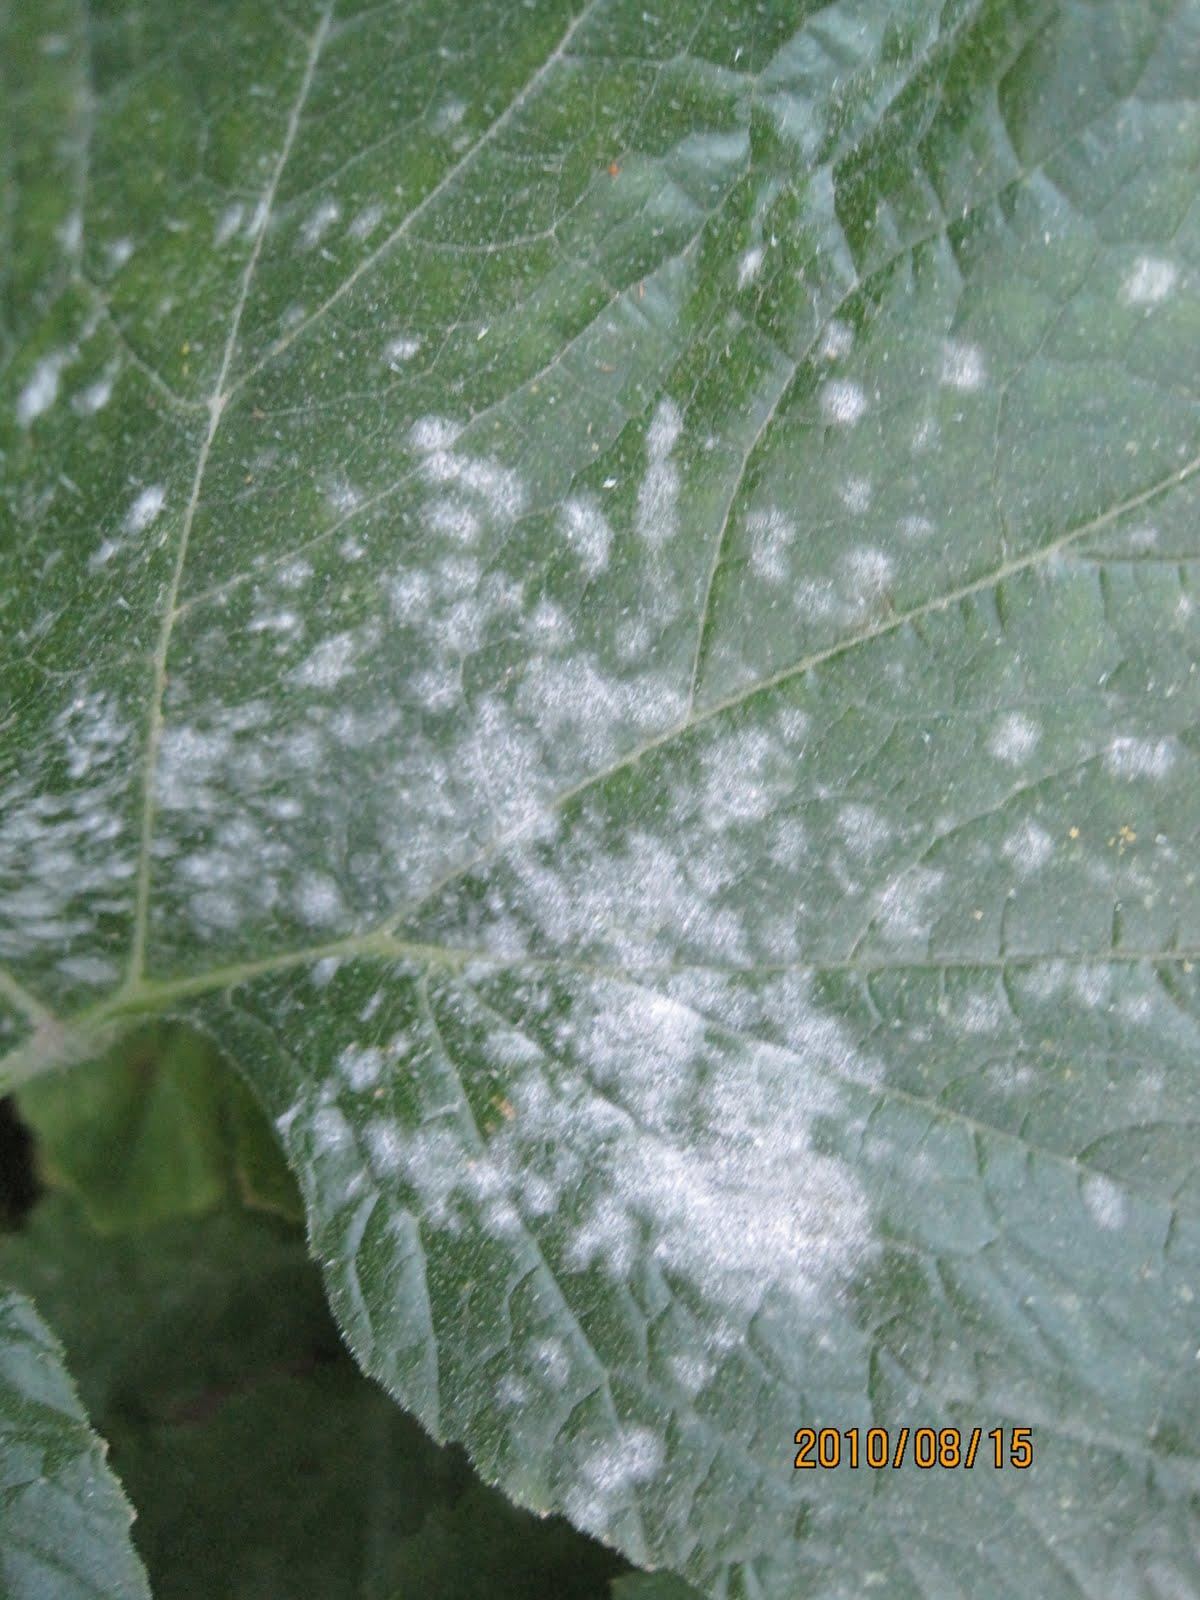Squash Powdery mildew leaf: (23, 3, 1200, 1580)
